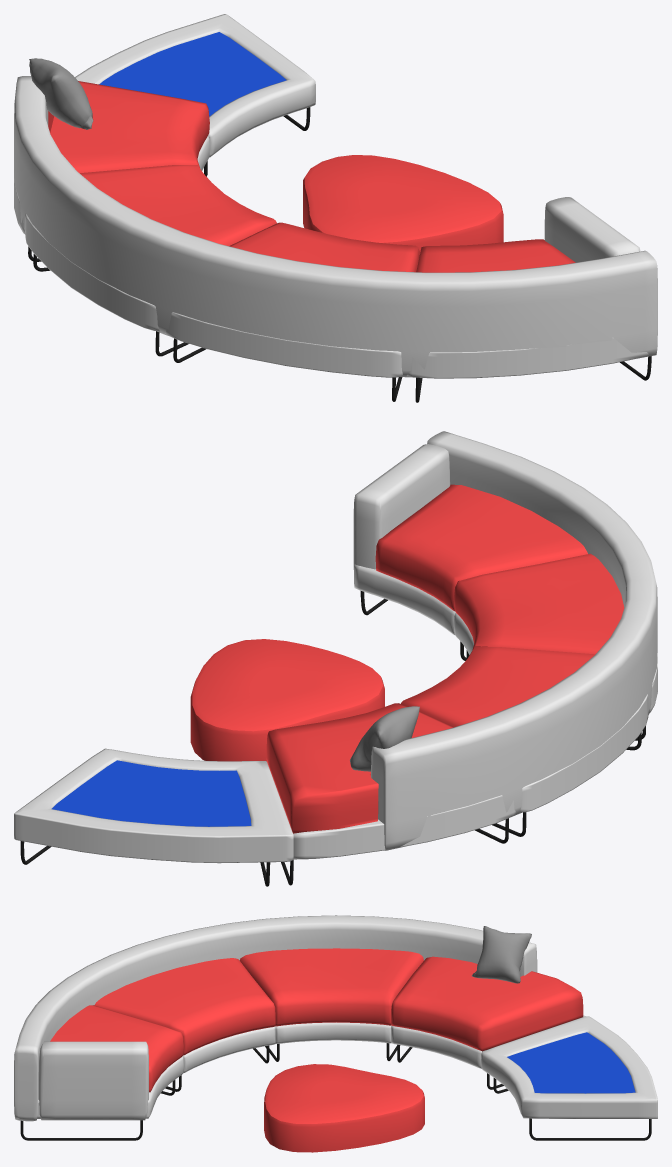
Rendered from UL1_sofa.FBX.
3 renders of one model, top to bottom at view 1: azimuth 30°, elevation 25°; view 2: azimuth 150°, elevation 25°; view 3: azimuth 270°, elevation 25°, orthographic. The views are drawn at different scales.
Visible parts, largest first — view 1: Circle008, c_sofa, Circle001, Circle009, Circle006; view 2: c_sofa, Circle008, Circle001, Circle009, Circle006; view 3: c_sofa, Circle008, Circle001, Circle009, Circle006.
Boxes of the visible parts, x1,y1,x2,y2 form: Circle008: [14, 76, 657, 377]; c_sofa: [14, 14, 649, 378]; Circle001: [303, 155, 503, 254]; Circle009: [99, 32, 286, 116]; Circle006: [28, 107, 651, 402]; c_sofa: [14, 484, 657, 863]; Circle008: [353, 431, 657, 850]; Circle001: [190, 639, 384, 761]; Circle009: [52, 760, 251, 826]; Circle006: [20, 591, 645, 886]; c_sofa: [16, 926, 657, 1118]; Circle008: [14, 915, 537, 1121]; Circle001: [264, 1064, 424, 1152]; Circle009: [507, 1032, 635, 1093]; Circle006: [20, 1043, 651, 1140].
Size of the model in its own units: 2.59 by 4.8 by 0.9119.
